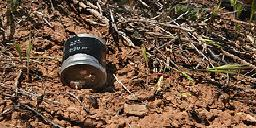Electrolytic-capacitor: (58, 32, 107, 91)
